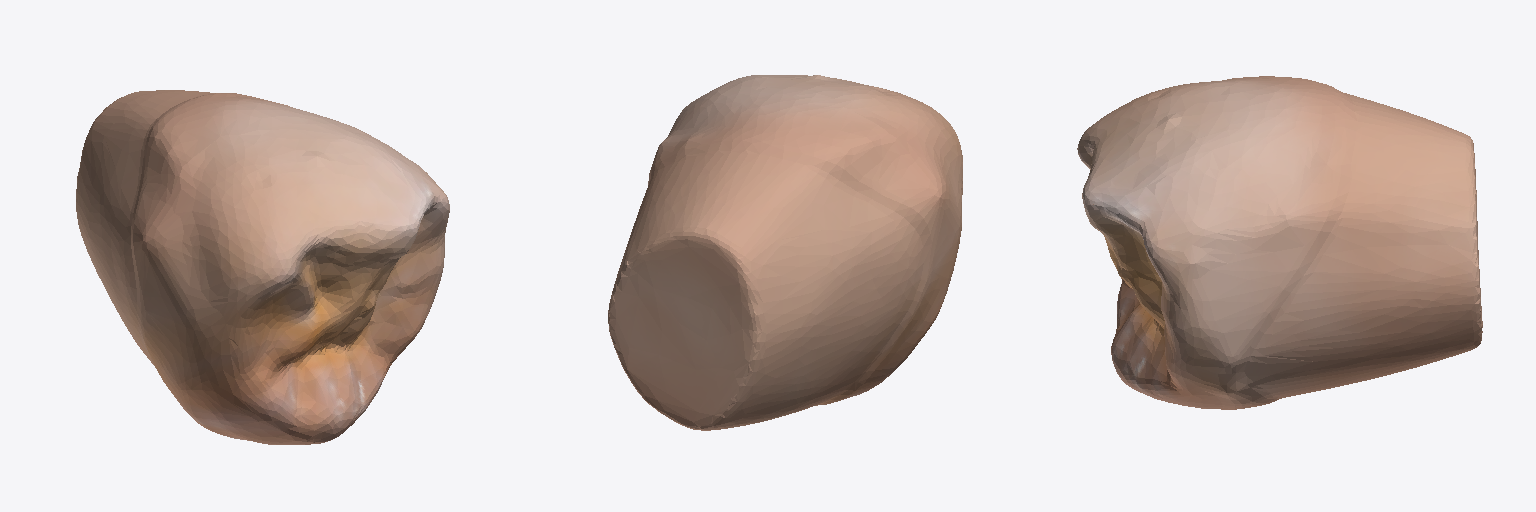
3 views of the same model, side by side, from view 1: azimuth 30°, elevation 25°; view 2: azimuth 150°, elevation 25°; view 3: azimuth 270°, elevation 25° (orthographic).
Bounding box in the file's own units: 7.9 × 8.1 × 9.72.
1 materials, 1 textured.